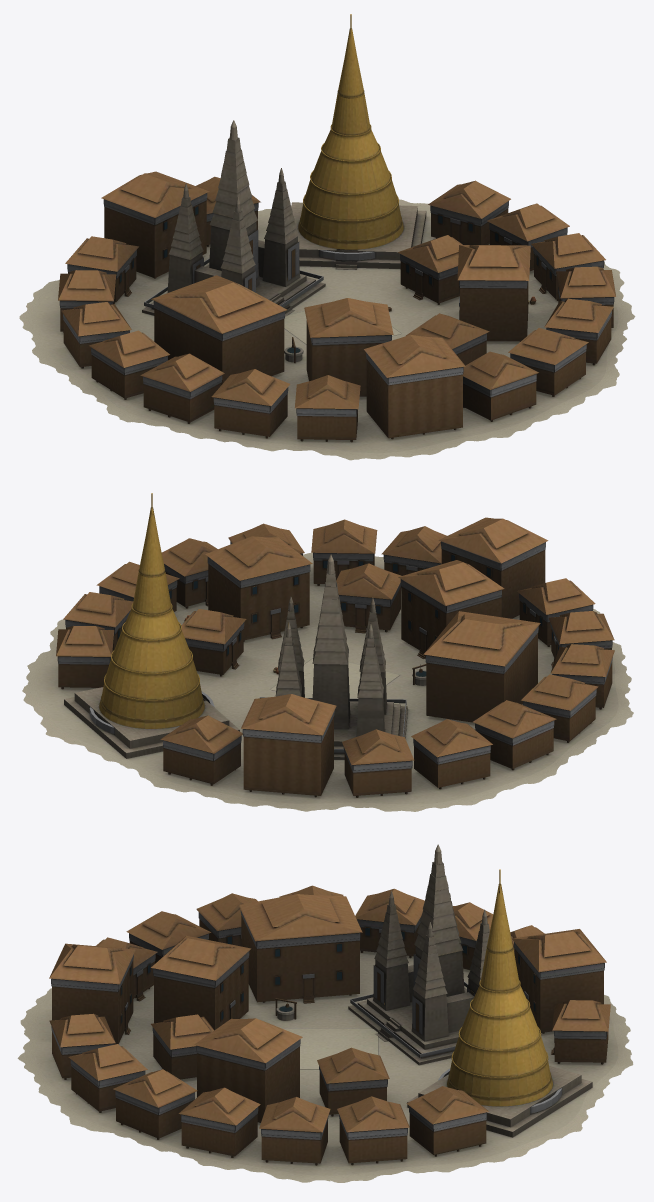
Rendered from kingdoms-town-big-a-monsoon.glb.
The picture shows the model from 3 angles, top to bottom: view 1: azimuth 30°, elevation 25°; view 2: azimuth 150°, elevation 25°; view 3: azimuth 270°, elevation 25°; orthographic projection.
Visible parts, largest first — view 1: LOD0; view 2: LOD0; view 3: LOD0.
Part boxes in pixels (bbox=[...]): LOD0: bbox=[19, 14, 635, 460]; LOD0: bbox=[22, 493, 633, 811]; LOD0: bbox=[17, 844, 633, 1182].
Size of what is drawn, in the model's own units: 7.93 by 3.2 by 7.89.
Materials: 3 (3 with a texture image).
